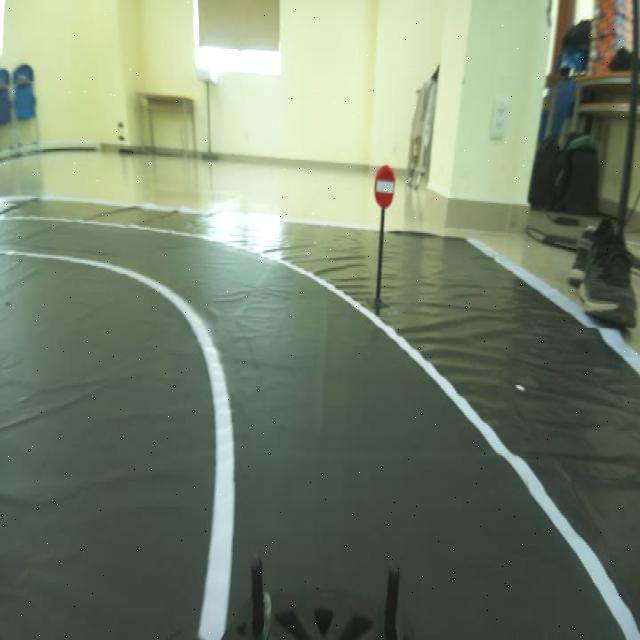no_entry: (370, 151, 400, 213)
